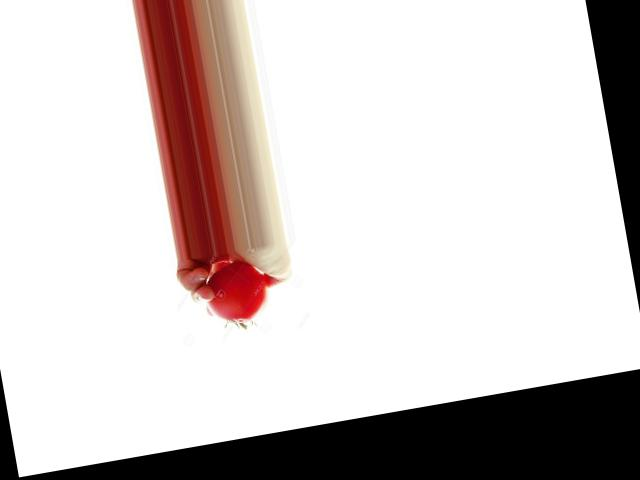tomato: (199, 257, 272, 328)
